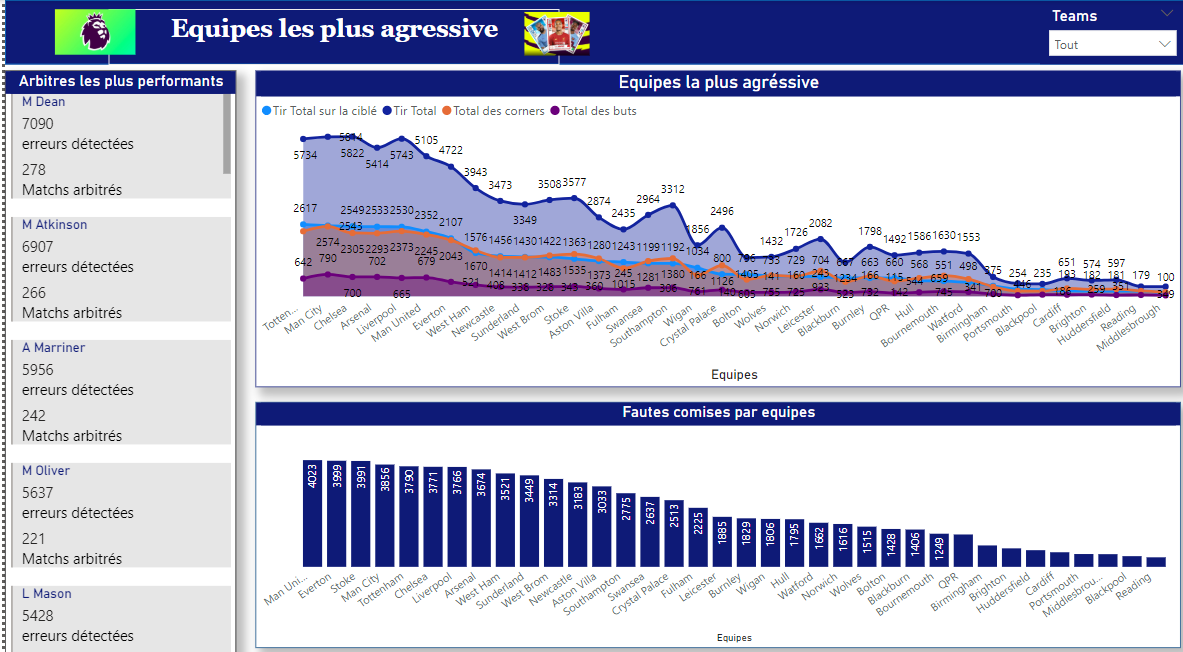

This screenshot's page, from the dashboard's own definition file:
{"tool":"powerbi","page":{"name":"Agressivite","canvas":[1280,720],"ordinal":3},"visuals":[{"type":"shape","box":[0,0,1280.1,69.9],"z":0},{"type":"textbox","box":[112.2,9.8,489.6,60.2],"z":1000},{"type":"image","box":[48.8,0,97.6,69.9],"z":2000},{"type":"image","box":[557.9,1.6,81.3,69.9],"z":3000},{"type":"slicer","fields":{"Values":["Teams.Teams"]},"box":[1122.2,1.6,157.8,68.3],"z":4000},{"type":"multiRowCard","title":"Arbitres les plus performants","fields":{"Values":["Data.Referee","Data.C MostDisciplineRefree","Data.Referee"]},"box":[0,76.4,250.5,644.1],"z":5000},{"type":"areaChart","title":"Equipes la plus agréssive","fields":{"Category":["Teams.Teams"],"Y":["Data.M TotaShortOnTarget","Data.M TotaShort","Data.M TotalCorners","Data.TotalGoals"]},"box":[271.6,76.4,1003.6,343.2],"z":6000},{"type":"clusteredColumnChart","title":"Fautes comises par equipes","fields":{"Category":["Teams.Teams"],"Y":["Data.M TotalFouls"]},"box":[271.6,435.9,1003.6,266.8],"z":6001}]}

Visuals, with their boxes in screenshot pixels (x1, y1, x2, y2), scaled from the page's 1280x720 canvas onto the 1183x652 screenshot:
shape: bbox=[0, 0, 1182, 63]
textbox: bbox=[104, 9, 556, 63]
image: bbox=[45, 0, 135, 63]
image: bbox=[516, 1, 591, 65]
slicer - Teams.Teams: bbox=[1037, 1, 1182, 63]
"Arbitres les plus performants" multiRowCard: bbox=[0, 69, 232, 651]
"Equipes la plus agréssive" areaChart: bbox=[251, 69, 1179, 380]
"Fautes comises par equipes" clusteredColumnChart: bbox=[251, 395, 1179, 636]
